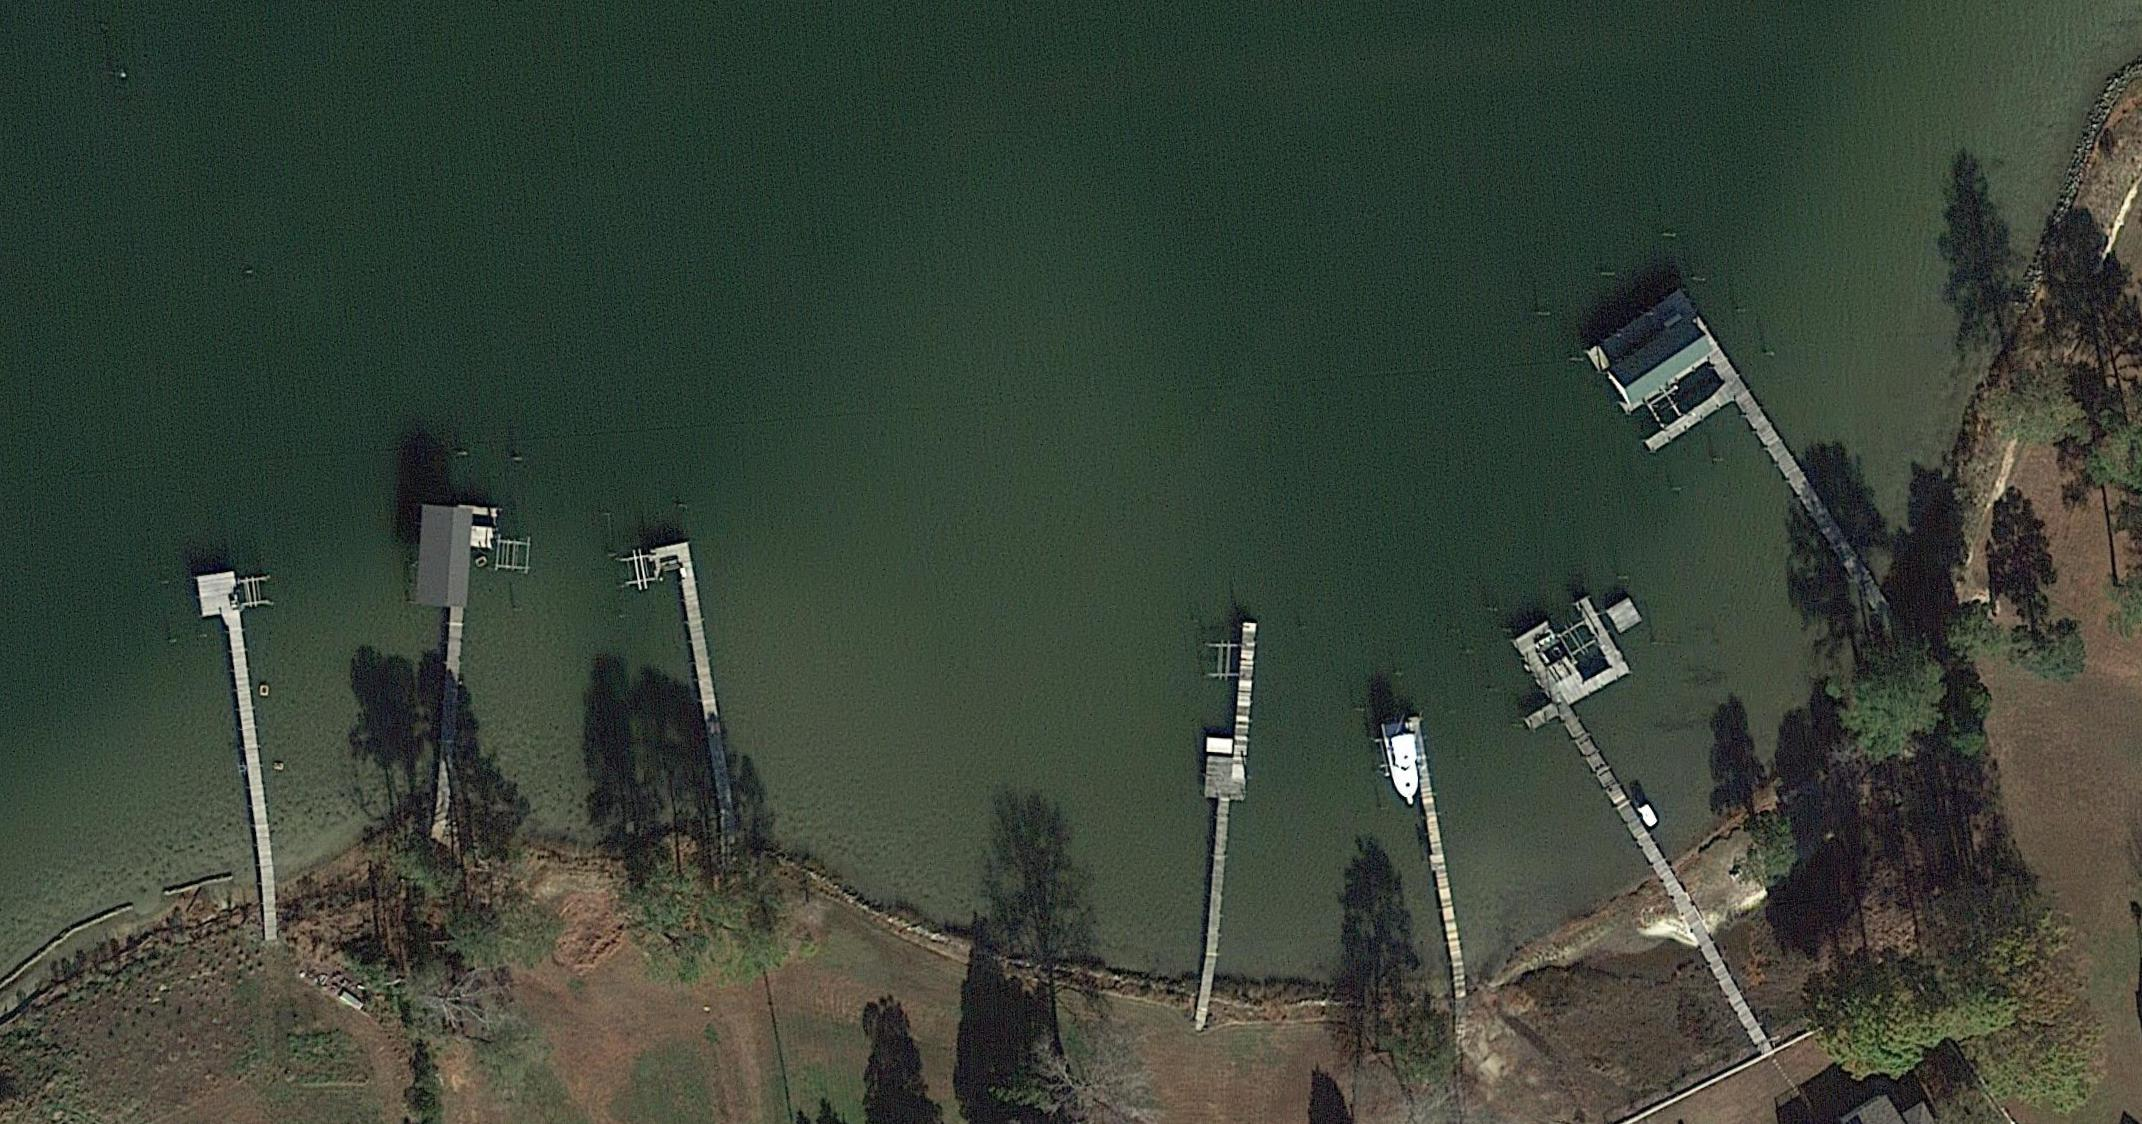harbor: (1582, 288, 1871, 638), (1485, 578, 1745, 880), (404, 500, 501, 814), (193, 571, 279, 887), (1181, 619, 1257, 928), (649, 540, 725, 753), (1405, 714, 1462, 947)
ship: (1378, 717, 1425, 811)
